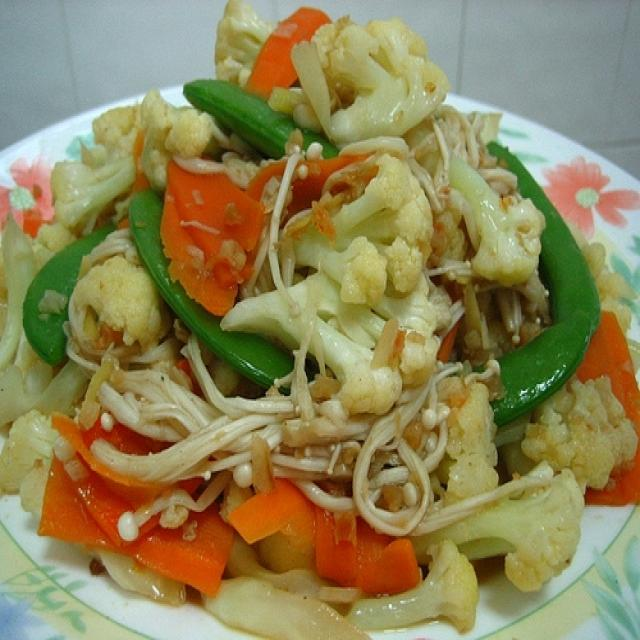蔬菜料理: (5, 12, 631, 623)
